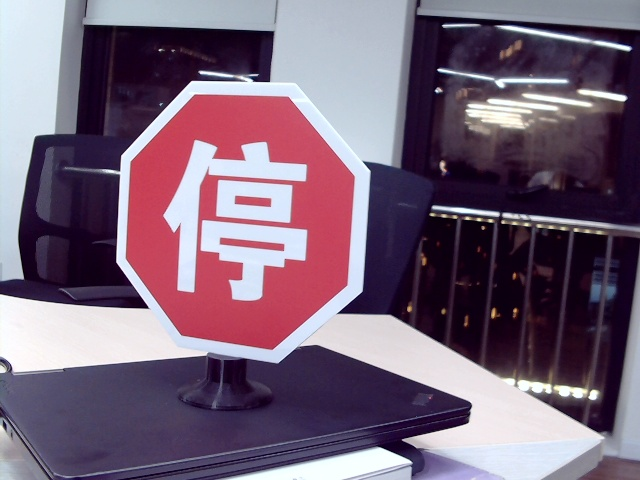stop: (169, 130, 309, 302)
